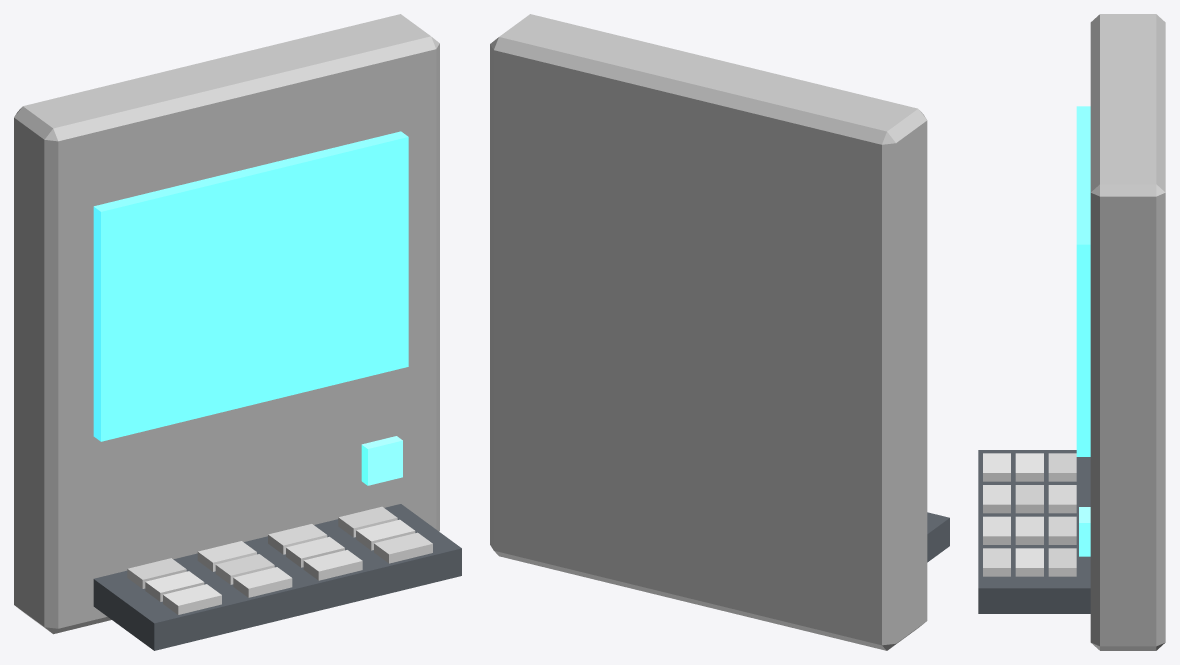
File: Terminal_Wall.fbx
3 renders of one model, left to right at view 1: azimuth 30°, elevation 25°; view 2: azimuth 150°, elevation 25°; view 3: azimuth 270°, elevation 25°, orthographic. The views are drawn at different scales.
Visible parts, largest first — view 1: Terminal_Wall; view 2: Terminal_Wall; view 3: Terminal_Wall.
Part boxes in pixels (<box>): Terminal_Wall: <box>14,14,461,650</box>; Terminal_Wall: <box>490,14,949,650</box>; Terminal_Wall: <box>978,14,1165,650</box>.
Bounding box in the file's own units: 0.9 × 1.1 × 0.4.
